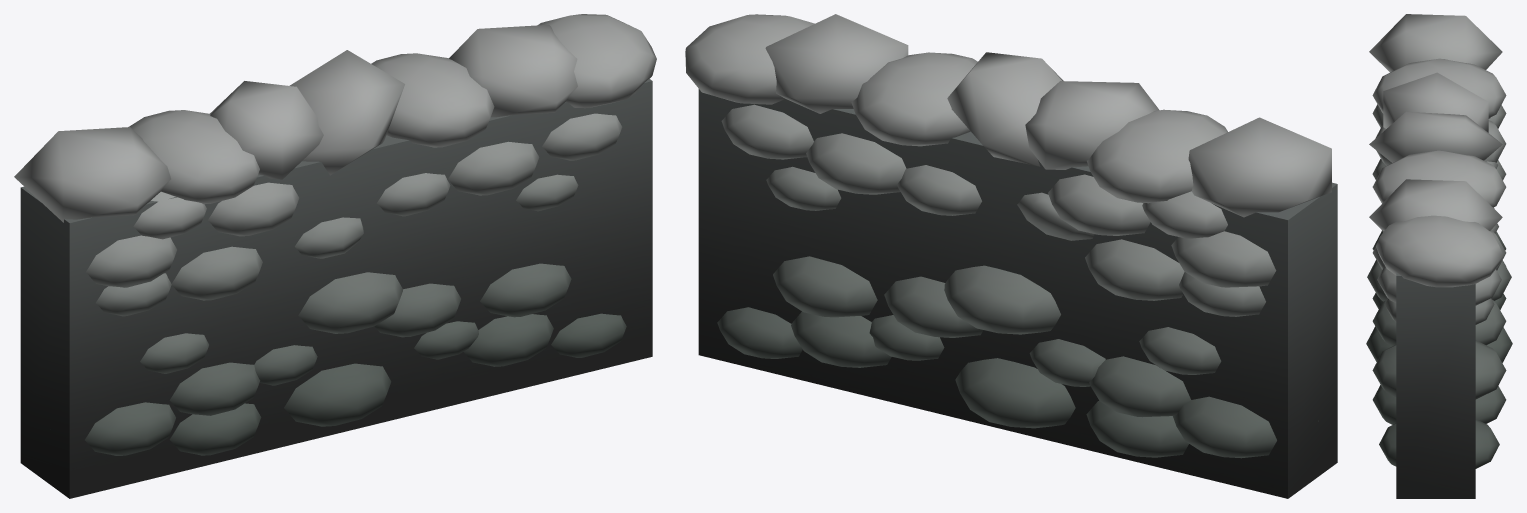
File: stonewall_straight.fbx
3 renders of one model, left to right at view 1: azimuth 30°, elevation 25°; view 2: azimuth 150°, elevation 25°; view 3: azimuth 270°, elevation 25°, orthographic. The views are drawn at different scales.
Visible parts, largest first — view 1: stonewall_straight; view 2: stonewall_straight; view 3: stonewall_straight.
Part boxes in pixels (bbox=[...]): stonewall_straight: bbox=[14, 14, 656, 498]; stonewall_straight: bbox=[685, 14, 1337, 498]; stonewall_straight: bbox=[1366, 14, 1512, 498].
Size of the model in its own units: 8.63 by 4.52 by 2.19.
